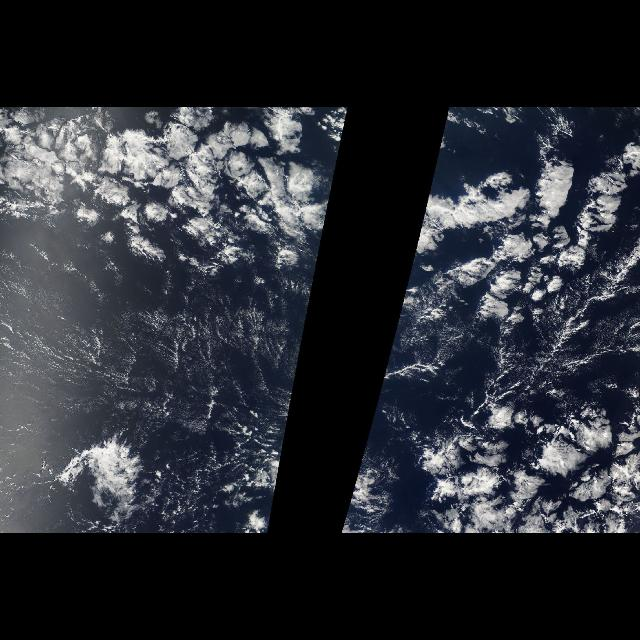Flower: (412, 141, 640, 531), (7, 118, 347, 294)
Gravel: (13, 307, 310, 407), (144, 428, 222, 530)
Sugar: (4, 280, 310, 448), (419, 266, 639, 400)
